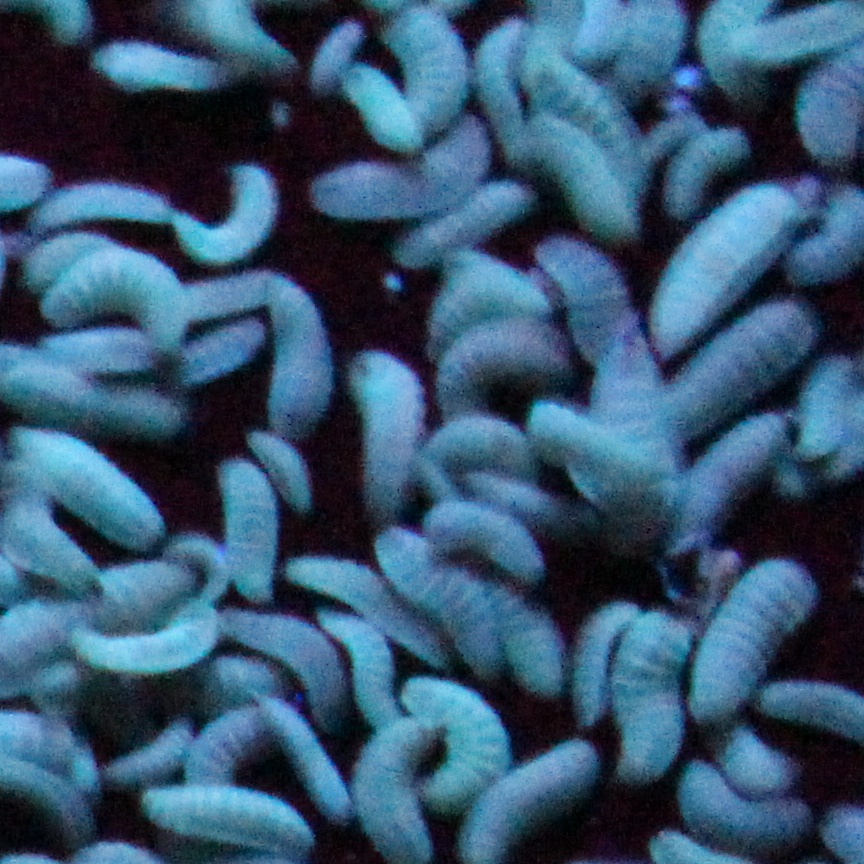larve: (655, 181, 809, 356), (693, 555, 822, 727), (660, 301, 822, 434), (521, 48, 660, 191), (9, 420, 164, 543), (286, 555, 455, 665), (674, 410, 802, 546), (321, 118, 486, 215), (521, 120, 652, 239), (248, 684, 352, 829), (45, 248, 191, 350), (347, 346, 426, 532), (138, 782, 329, 856), (612, 608, 688, 781), (433, 320, 567, 415), (0, 474, 102, 598), (403, 684, 507, 805), (390, 181, 534, 267), (536, 228, 631, 352), (69, 598, 226, 672), (683, 758, 807, 851), (265, 274, 331, 441), (10, 368, 184, 427), (97, 37, 252, 103), (174, 162, 274, 260), (422, 508, 550, 582), (576, 589, 643, 729), (215, 463, 278, 606), (31, 184, 179, 234), (478, 6, 526, 160), (786, 186, 862, 282), (665, 127, 748, 213), (347, 65, 426, 150), (758, 670, 864, 727), (247, 427, 315, 513), (110, 724, 198, 786)
